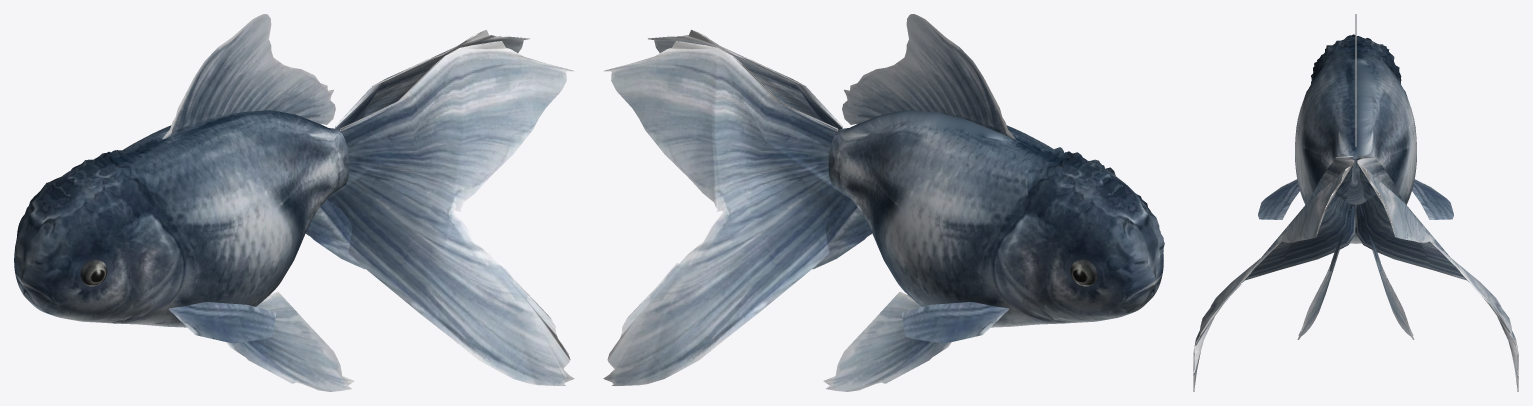
Rendered from seibungyo.glb.
3 renders of one model, left to right at view 1: azimuth 30°, elevation 25°; view 2: azimuth 150°, elevation 25°; view 3: azimuth 270°, elevation 25°, orthographic. The views are drawn at different scales.
Parts seen in each view (by area): view 1: caudal_near, body, wen, dorsal, pelvic_near, pectoral_near, caudal_far, gill_near, anal_near, eye_near; view 2: caudal_far, body, wen, dorsal, pelvic_far, pectoral_far, caudal_near, gill_far, anal_far, eye_far; view 3: body, caudal_near, caudal_far, wen, pectoral_near, pectoral_far, pelvic_near, pelvic_far.
Boxes of the visible parts, x1,y1,x2,y2 form: caudal_near: (327,41,574,385); body: (14,110,349,327); wen: (15,149,150,271); dorsal: (162,14,335,139); pelvic_near: (226,291,354,391); pectoral_near: (168,302,276,343); caudal_far: (335,30,529,130); gill_near: (106,214,185,323); anal_near: (306,198,365,269); eye_near: (80,259,107,286); caudal_far: (603,41,850,385); body: (828,110,1163,327); wen: (1027,147,1164,271); dorsal: (842,14,1015,139); pelvic_far: (823,291,951,391); pectoral_far: (901,302,1009,343); caudal_near: (648,30,842,130); gill_far: (992,214,1070,323); anal_far: (812,198,871,269); eye_far: (1070,259,1097,286); body: (1295,54,1416,243); caudal_near: (1193,156,1355,391); caudal_far: (1356,156,1518,391); wen: (1311,34,1401,82); pectoral_near: (1258,179,1299,219); pectoral_far: (1412,179,1453,219); pelvic_near: (1297,250,1339,339); pelvic_far: (1372,250,1414,339).
Size of the model in its own units: 0.15 by 0.0982 by 0.0955.
1 material, 1 textured.
